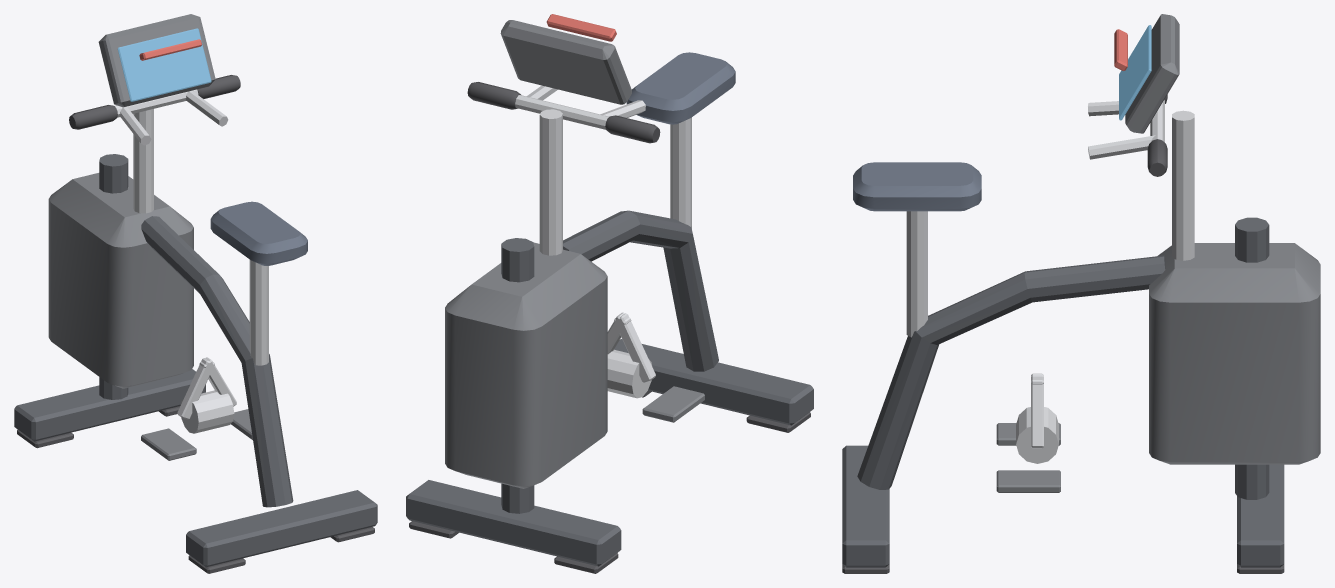
The model's file is exercise_bike.glb.
3 renders of one model, left to right at view 1: azimuth 30°, elevation 25°; view 2: azimuth 150°, elevation 25°; view 3: azimuth 270°, elevation 25°, orthographic. The views are drawn at different scales.
Parts seen in each view (by area): view 1: exercise-bike-upright, console/screen, console/dark, console/accent; view 2: exercise-bike-upright, console/dark, console/accent; view 3: exercise-bike-upright, console/dark, console/screen.
Part boxes in pixels (x1,y1,x2,y2): exercise-bike-upright: (14,75,377,573); console/screen: (117,28,211,101); console/dark: (98,14,215,107); console/accent: (139,39,202,60); exercise-bike-upright: (406,52,813,573); console/dark: (500,20,631,104); console/accent: (546,14,616,41); exercise-bike-upright: (842,94,1320,573); console/dark: (1125,14,1179,133); console/screen: (1119,25,1151,120).
Bounding box in the file's own units: 0.54 × 1.26 × 1.12.
